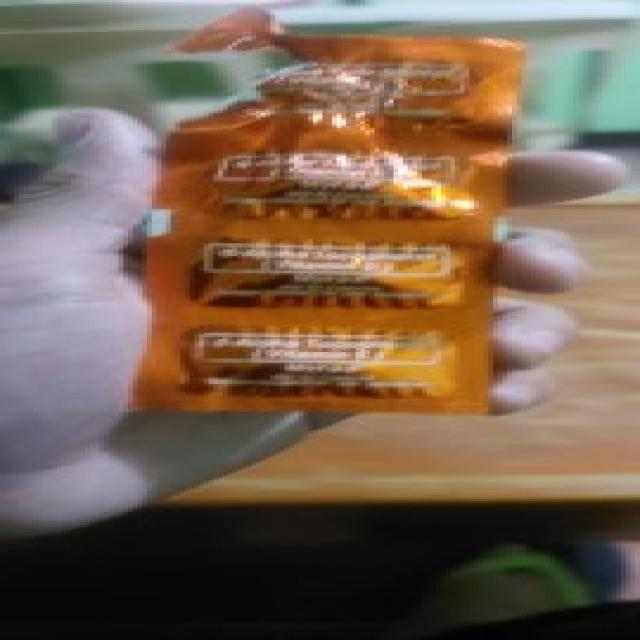Cacat: (120, 7, 524, 410)
Kemasan: (159, 7, 389, 137)
